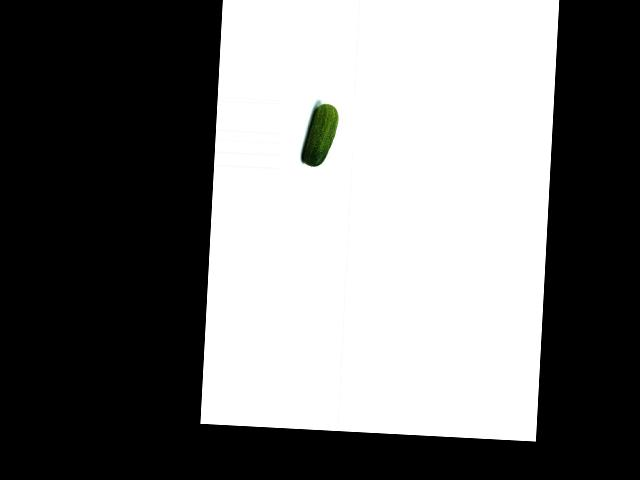cucumber: (302, 103, 338, 167)
